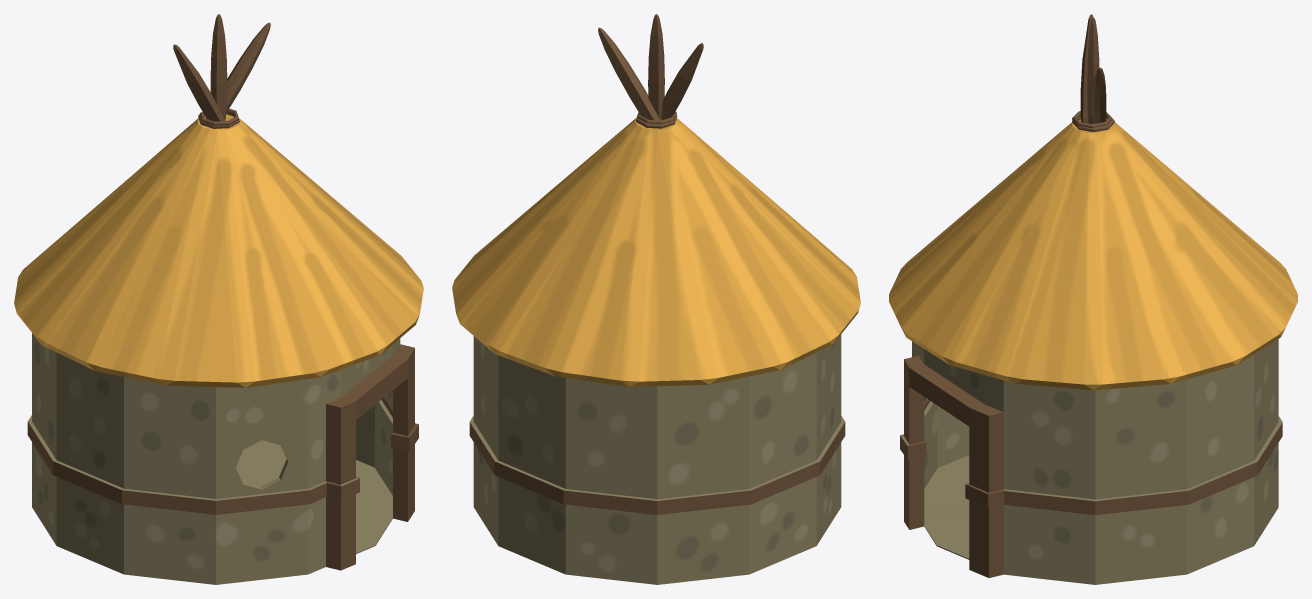
Rendered from Hut (1).fbx.
The picture shows the model from 3 angles, left to right: view 1: azimuth 30°, elevation 25°; view 2: azimuth 150°, elevation 25°; view 3: azimuth 270°, elevation 25°; orthographic projection.
Visible parts, largest first — view 1: Hut; view 2: Hut; view 3: Hut.
Boxes of the visible parts, left/top/right/bottom form: Hut: left=14, top=14, right=423, bottom=584; Hut: left=452, top=14, right=860, bottom=584; Hut: left=889, top=14, right=1297, bottom=584.
Size of the model in its own units: 434 by 575 by 434.
3 materials, 2 textured.
